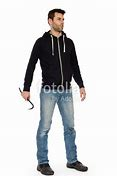crowbar: (17, 86, 36, 111)
